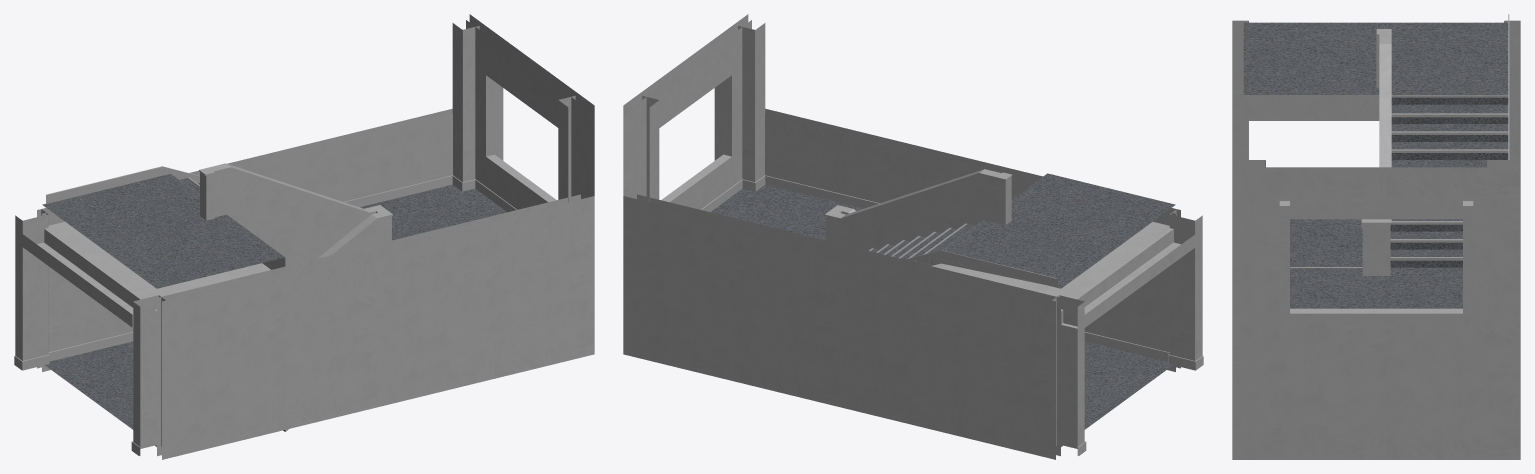
File: SM_StaircaseMesh_01_Bottom.fbx
3 renders of one model, left to right at view 1: azimuth 30°, elevation 25°; view 2: azimuth 150°, elevation 25°; view 3: azimuth 270°, elevation 25°, orthographic. The views are drawn at different scales.
Visible parts, largest first — view 1: SM_StaircaseMesh_01_Bottom_LOD0; view 2: SM_StaircaseMesh_01_Bottom_LOD0; view 3: SM_StaircaseMesh_01_Bottom_LOD0.
Part boxes in pixels (box(x1,y1,x2,y2)): SM_StaircaseMesh_01_Bottom_LOD0: box(14, 14, 594, 459); SM_StaircaseMesh_01_Bottom_LOD0: box(623, 14, 1203, 459); SM_StaircaseMesh_01_Bottom_LOD0: box(1232, 14, 1520, 459).
Bounding box in the file's own units: 1072 × 500 × 566.
5 materials, 5 textured.
